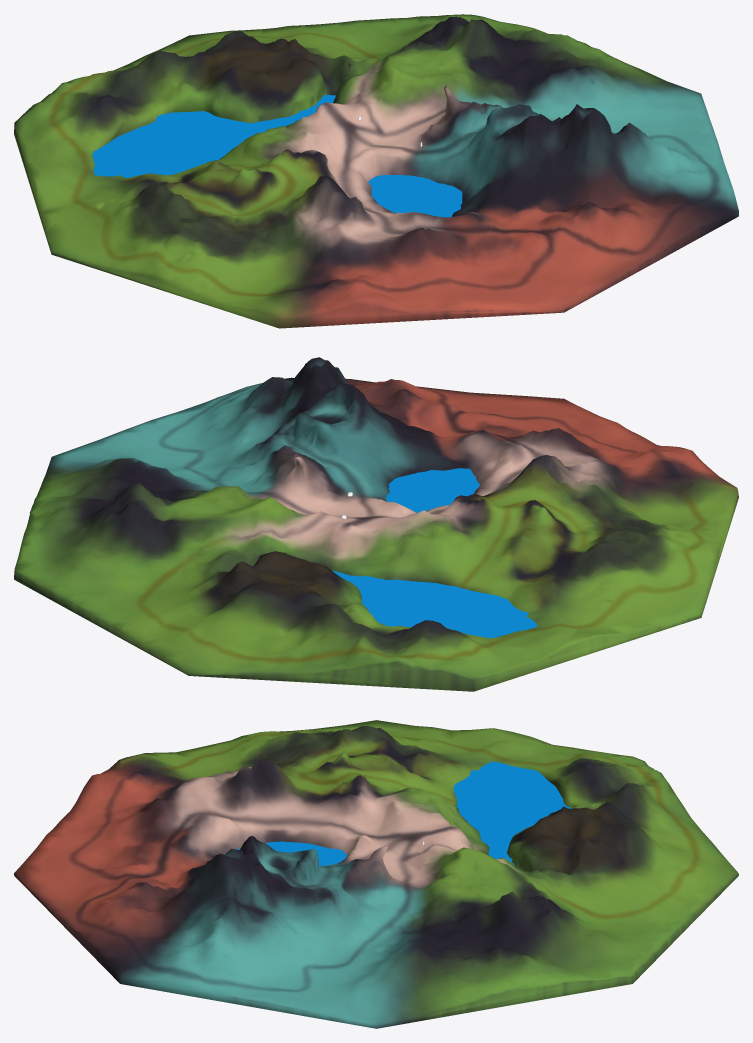
Rendered from lobby_deleted14.glb.
3 renders of one model, top to bottom at view 1: azimuth 30°, elevation 25°; view 2: azimuth 150°, elevation 25°; view 3: azimuth 270°, elevation 25°, orthographic. The views are drawn at different scales.
Visible parts, largest first — view 1: Landscape, ocean 01, ocean 02; view 2: Landscape, ocean 01, ocean 02; view 3: Landscape, ocean 01, ocean 02.
Boxes of the visible parts, x1,y1,x2,y2 form: Landscape: (14,14,738,328); ocean 01: (92,95,335,177); ocean 02: (368,175,462,217); Landscape: (14,357,738,691); ocean 01: (332,570,537,638); ocean 02: (386,468,479,512); Landscape: (14,720,738,1028); ocean 01: (453,761,572,864); ocean 02: (224,841,346,865).
Size of the model in its own units: 490 by 96.79 by 490.
Materials: 5 (2 with a texture image).
